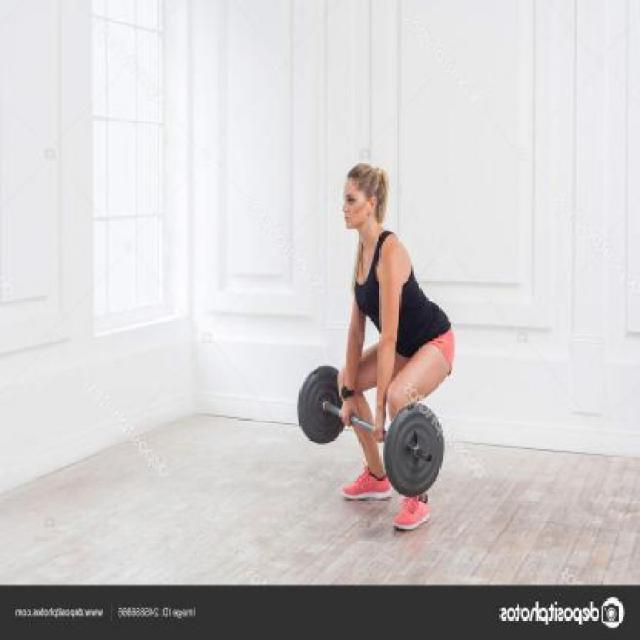Barbell: (423, 450, 434, 466)
